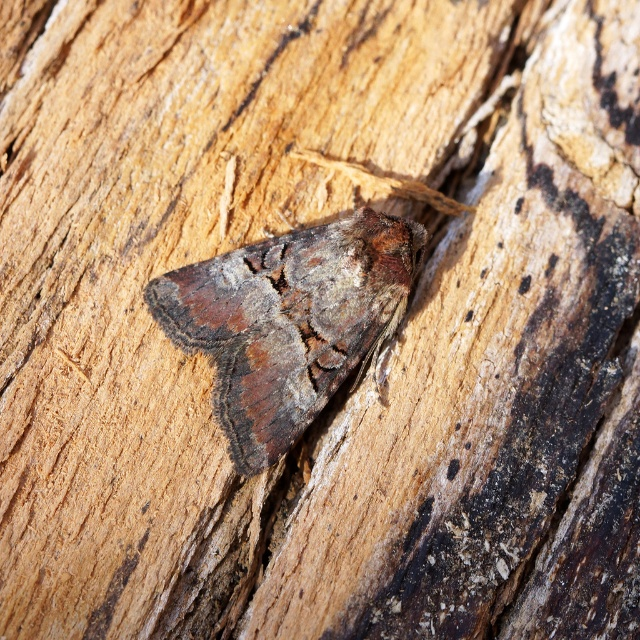Moths and butterflies: (139, 187, 433, 481)
